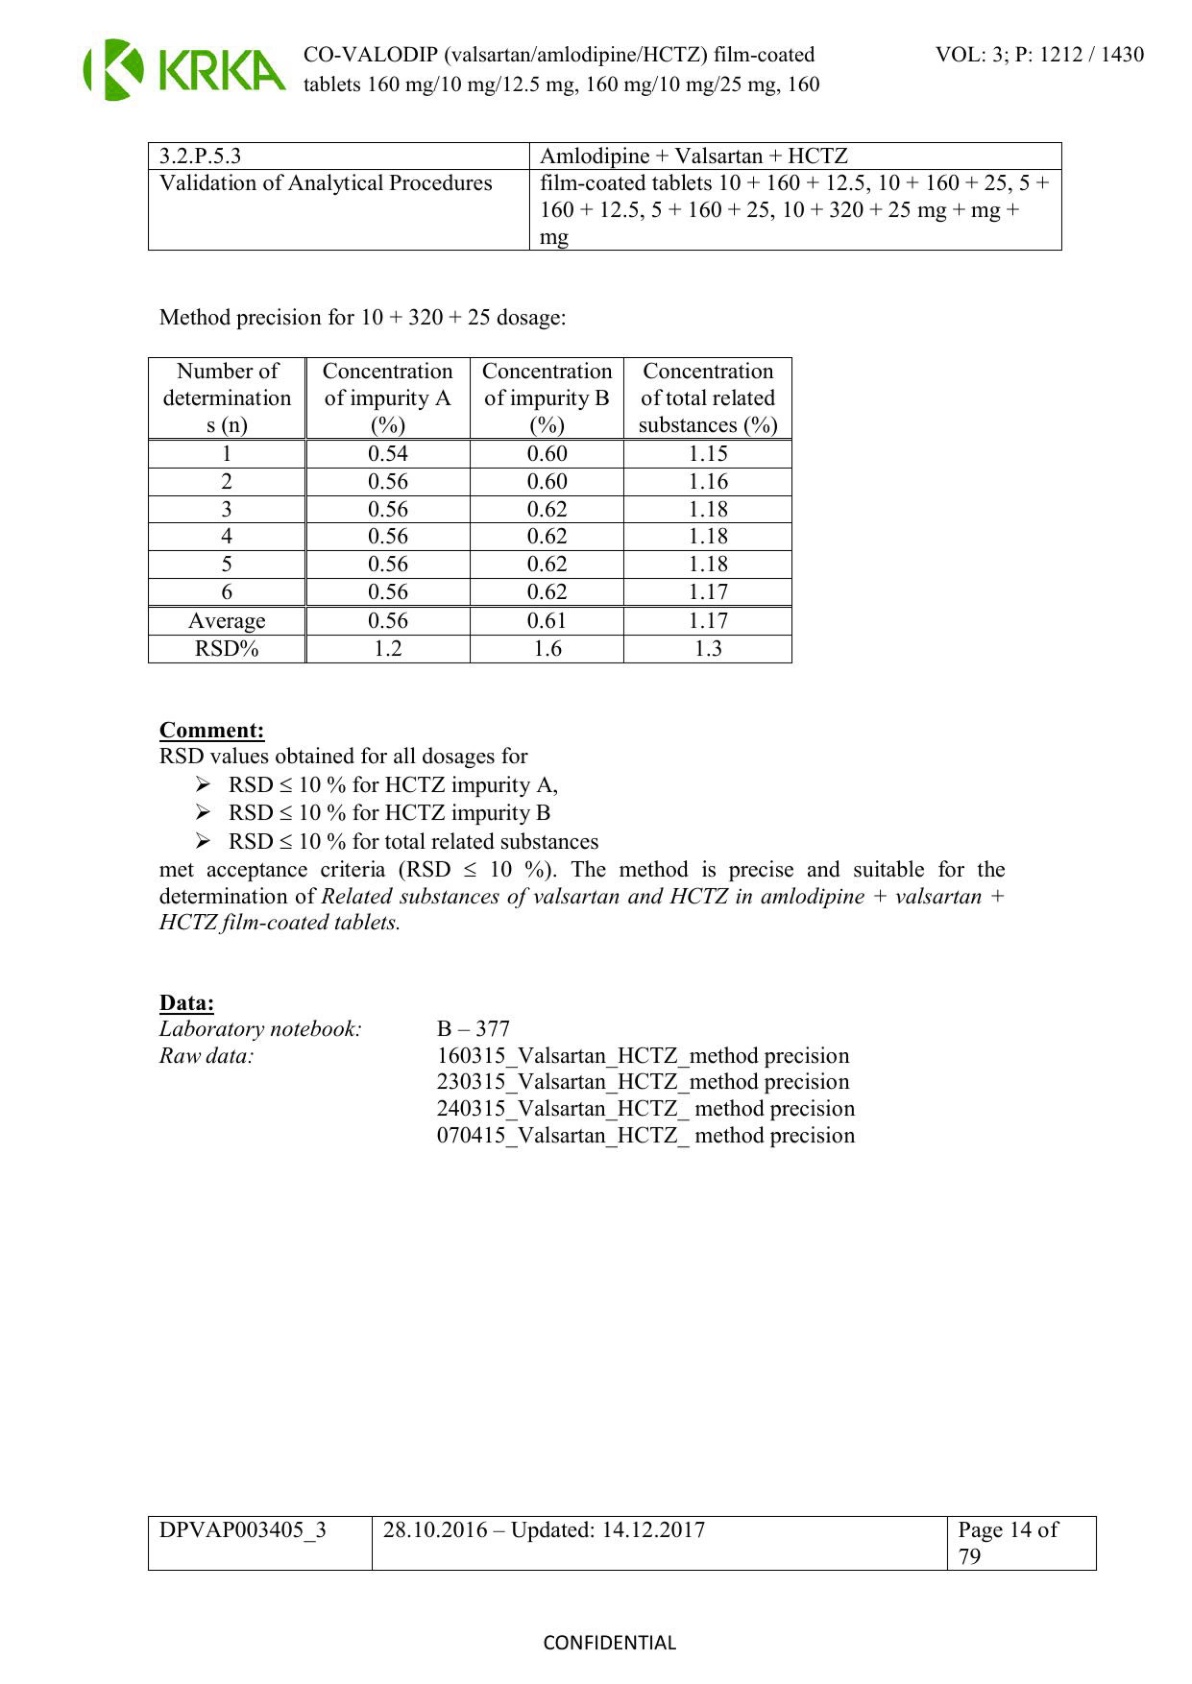full_lined: (147, 355, 793, 665), (147, 141, 1063, 251), (146, 1514, 1098, 1572)
nolines: (157, 989, 860, 1151)
